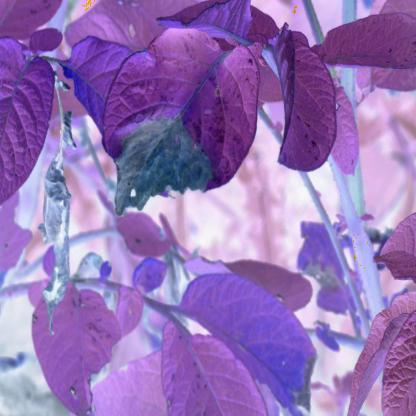Potato leaf late blight: (102, 27, 262, 215), (179, 272, 327, 415), (292, 217, 364, 319)
